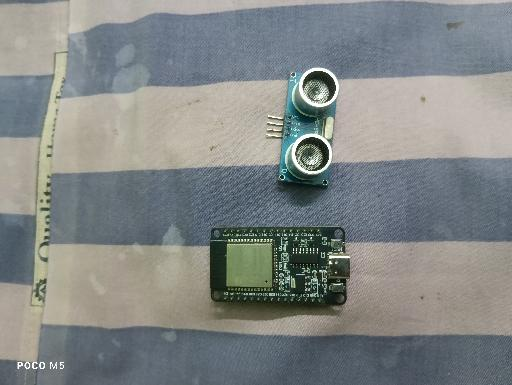Esp32: (210, 227, 351, 307)
sensor: (267, 67, 340, 187)
